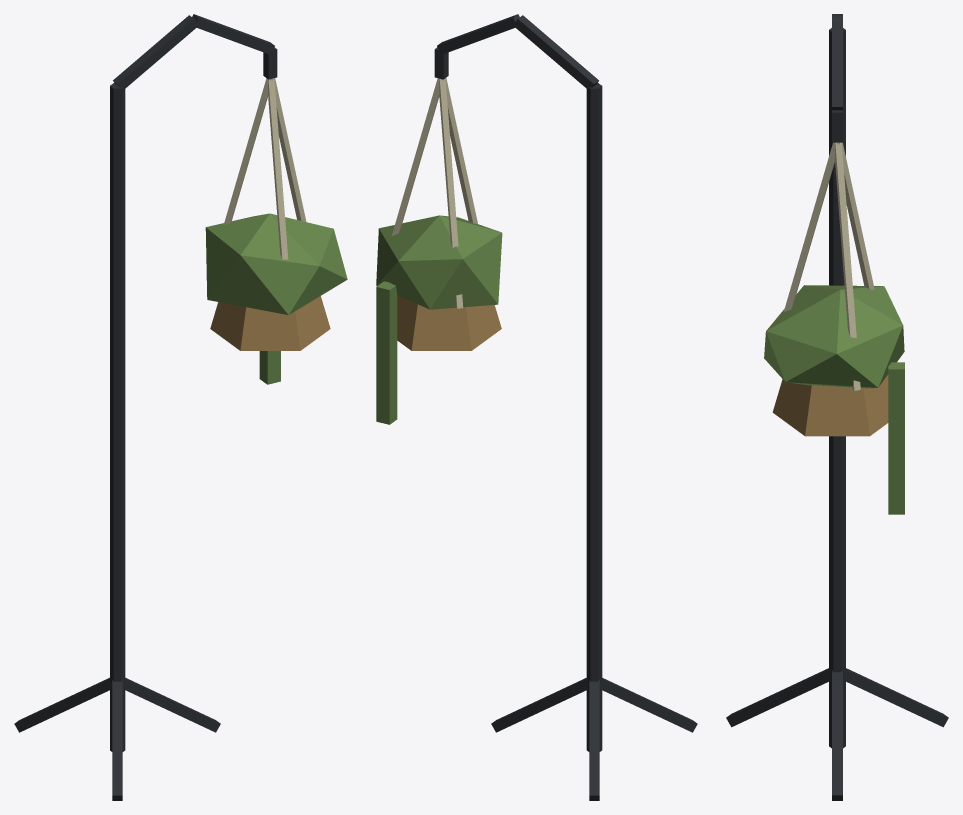
File: plant-hanger-00.glb
The picture shows the model from 3 angles, left to right: view 1: azimuth 30°, elevation 25°; view 2: azimuth 150°, elevation 25°; view 3: azimuth 270°, elevation 25°; orthographic projection. The views are drawn at different scales.
Parts seen in each view (by area): view 1: plant_hanger_00; view 2: plant_hanger_00; view 3: plant_hanger_00.
Boxes of the visible parts, x1=… form: plant_hanger_00: x1=14, y1=14, x2=347, y2=800; plant_hanger_00: x1=376, y1=14, x2=697, y2=800; plant_hanger_00: x1=726, y1=14, x2=948, y2=800.
Size of the model in its own units: 0.6048 by 1.54 by 0.4008.
